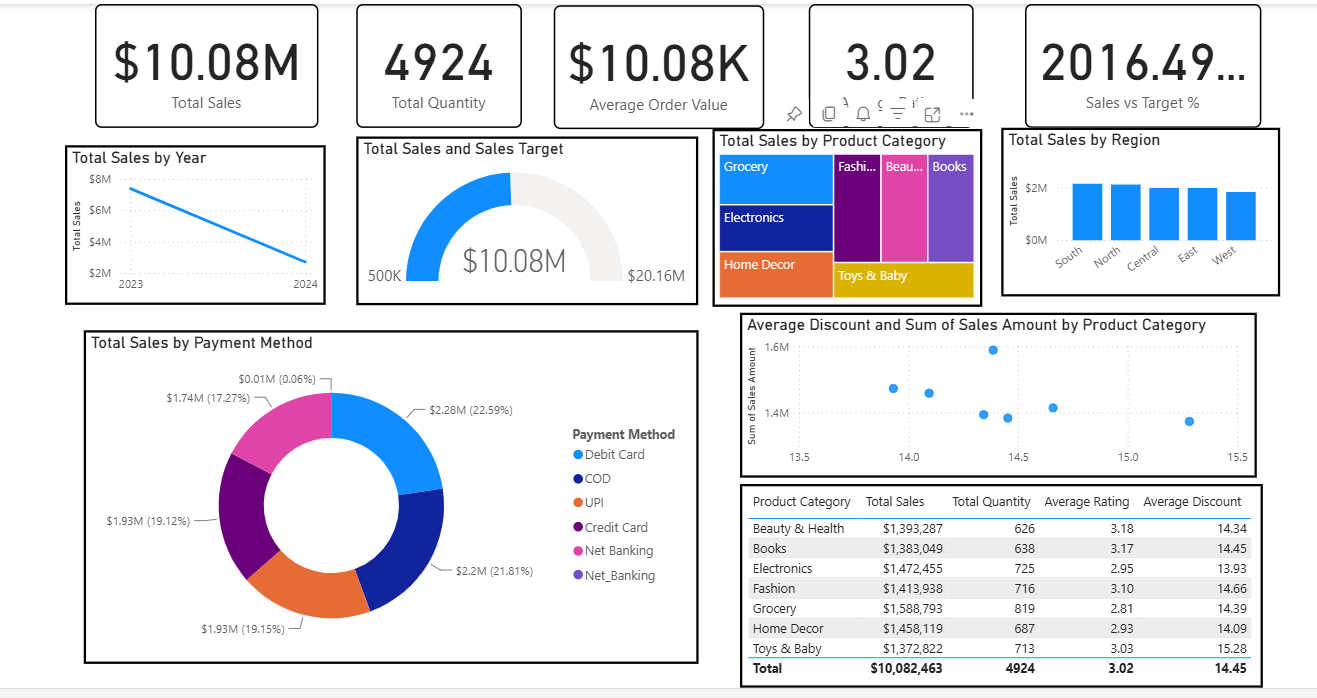

This screenshot's page, from the dashboard's own definition file:
{"tool":"powerbi","page":{"name":"Dashboard","canvas":[1280,720],"ordinal":3},"visuals":[{"type":"card","fields":{"Values":["Sheet1.Total Sales"]},"box":[31.8,0,235.6,130.7],"z":0},{"type":"card","fields":{"Values":["Sheet1.Average Rating"]},"box":[783.5,0,173.5,130.7],"z":1000},{"type":"card","fields":{"Values":["Sheet1.Sales vs Target %"]},"box":[1011,0,248.9,130.7],"z":2000},{"type":"card","fields":{"Values":["Sheet1.Total Quantity"]},"box":[306.5,0,174.3,130.7],"z":3000},{"type":"card","fields":{"Values":["Sheet1.Average Order Value"]},"box":[514,0.7,221.5,130.7],"z":4000},{"type":"lineChart","fields":{"Category":["Sheet1.Order Date.Variation.Date Hierarchy.Year","Sheet1.Order Date.Variation.Date Hierarchy.Quarter","Sheet1.Order Date.Variation.Date Hierarchy.Month","Sheet1.Order Date.Variation.Date Hierarchy.Day"],"Y":["Sheet1.Total Sales"]},"box":[0,148.4,274.7,168.4],"z":5000},{"type":"clusteredColumnChart","fields":{"Category":["Sheet1.Region"],"Y":["Sheet1.Total Sales"]},"box":[985.8,130.7,293.9,177.2],"z":6000},{"type":"treemap","fields":{"Group":["Sheet1.Product Category"],"Values":["Sheet1.Total Sales"]},"box":[681.6,131.4,284.3,186.8],"z":7000},{"type":"scatterChart","fields":{"X":["Sheet1.Average Discount"],"Y":["Sum(Sheet1.Sales Amount)"],"Category":["Sheet1.Product Category"]},"box":[710.4,324.9,544.2,173.5],"z":8000},{"type":"donutChart","fields":{"Category":["Sheet1.Payment Method"],"Y":["Sheet1.Total Sales"]},"box":[19.9,343.4,646.9,351.5],"z":9000},{"type":"tableEx","fields":{"Values":["Sheet1.Product Category","Sheet1.Total Sales","Sheet1.Total Quantity","Sheet1.Average Rating","Sheet1.Average Discount"]},"box":[710.4,505.8,550.2,214.2],"z":10000},{"type":"gauge","fields":{"Y":["Sheet1.Total Sales"],"MinValue":["Sheet1.Sales Target"]},"box":[306.5,139.6,360.4,177.2],"z":11000}]}

Visuals, with their boxes in screenshot pixels (x1, y1, x2, y2):
card - Sheet1.Total Sales: [89,0,315,125]
card - Sheet1.Average Rating: [809,0,975,125]
card - Sheet1.Sales vs Target %: [1027,0,1266,125]
card - Sheet1.Total Quantity: [352,0,519,125]
card - Sheet1.Average Order Value: [551,1,763,126]
lineChart - Sheet1.Order Date.Variation.Date Hierarchy.Year x Sheet1.Order Date.Variation.Date Hierarchy.Quarter: [58,142,322,304]
clusteredColumnChart - Sheet1.Region x Sheet1.Total Sales: [1003,125,1285,295]
treemap - Sheet1.Product Category x Sheet1.Total Sales: [711,126,984,305]
scatterChart - Sheet1.Average Discount x Sum(Sheet1.Sales Amount): [739,311,1261,478]
donutChart - Sheet1.Payment Method x Sheet1.Total Sales: [77,329,697,666]
tableEx - Sheet1.Product Category x Sheet1.Total Sales: [739,485,1266,690]
gauge - Sheet1.Total Sales x Sheet1.Sales Target: [352,134,697,304]
